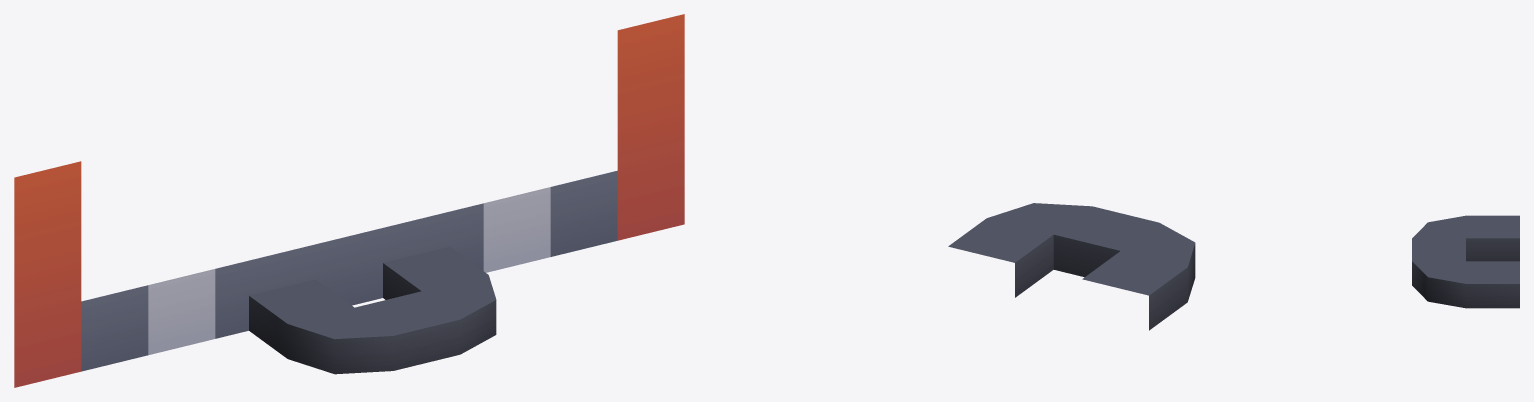
The model's file is kenney-toy-car-track-road-narrow-cap-back.glb.
3 views of the same model, side by side, from view 1: azimuth 30°, elevation 25°; view 2: azimuth 150°, elevation 25°; view 3: azimuth 270°, elevation 25° (orthographic). The views are drawn at different scales.
Visible parts, largest first — view 1: track-road-narrow-cap-back; view 2: track-road-narrow-cap-back; view 3: track-road-narrow-cap-back.
Part boxes in pixels (<box>): track-road-narrow-cap-back: <box>14,14,684,387</box>; track-road-narrow-cap-back: <box>948,203,1195,330</box>; track-road-narrow-cap-back: <box>1412,215,1519,308</box>.
Bounding box in the file's own units: 1 × 0.3 × 0.2.
1 material, 1 textured.
